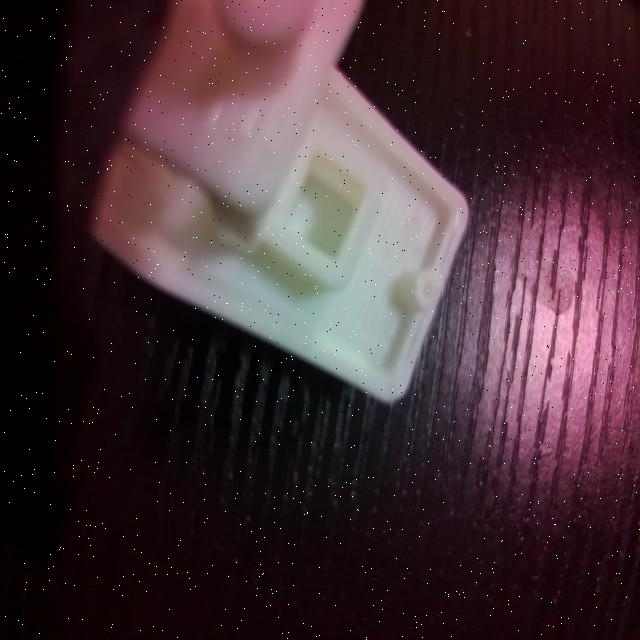ship: (6, 0, 470, 406)
